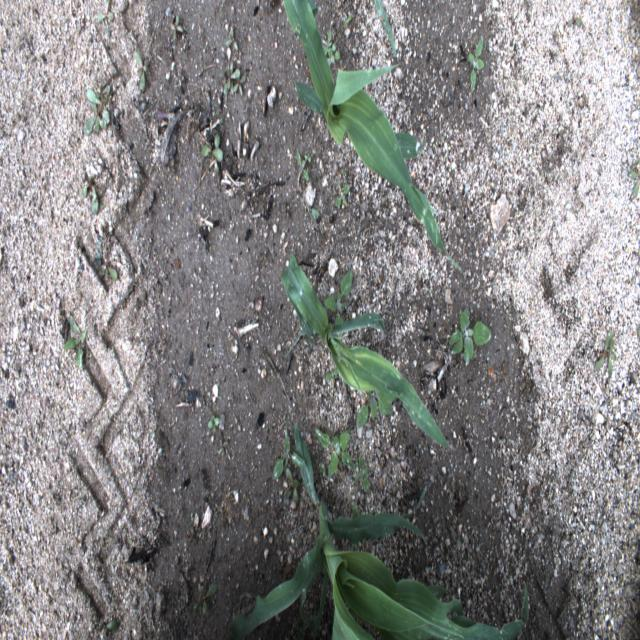crop: (225, 419, 530, 638), (282, 0, 460, 268), (278, 248, 456, 454), (372, 1, 398, 56)
weed: (448, 310, 488, 370), (314, 430, 354, 477), (325, 266, 353, 324), (83, 86, 113, 138), (61, 314, 89, 367), (356, 396, 395, 429), (199, 134, 225, 182), (592, 330, 616, 379), (95, 240, 119, 288), (467, 36, 487, 90), (270, 435, 291, 481), (194, 583, 221, 616), (82, 173, 103, 215), (132, 46, 150, 90), (282, 464, 301, 504), (353, 454, 372, 494), (97, 1, 115, 37), (221, 63, 241, 95), (331, 181, 349, 212), (293, 149, 309, 182), (168, 12, 184, 41), (231, 71, 248, 97), (225, 28, 241, 55), (98, 618, 117, 638), (208, 411, 220, 438), (304, 204, 321, 223), (324, 366, 338, 389), (323, 28, 333, 58), (630, 168, 639, 201), (218, 436, 231, 458), (567, 13, 581, 33), (343, 13, 354, 32), (331, 42, 340, 64), (320, 461, 328, 479), (350, 501, 359, 514), (304, 153, 311, 166)
